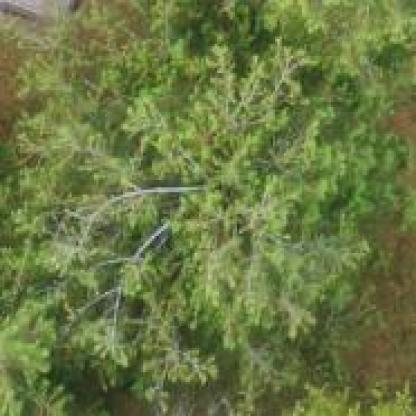Coniferous Tree: (1, 11, 397, 400)
